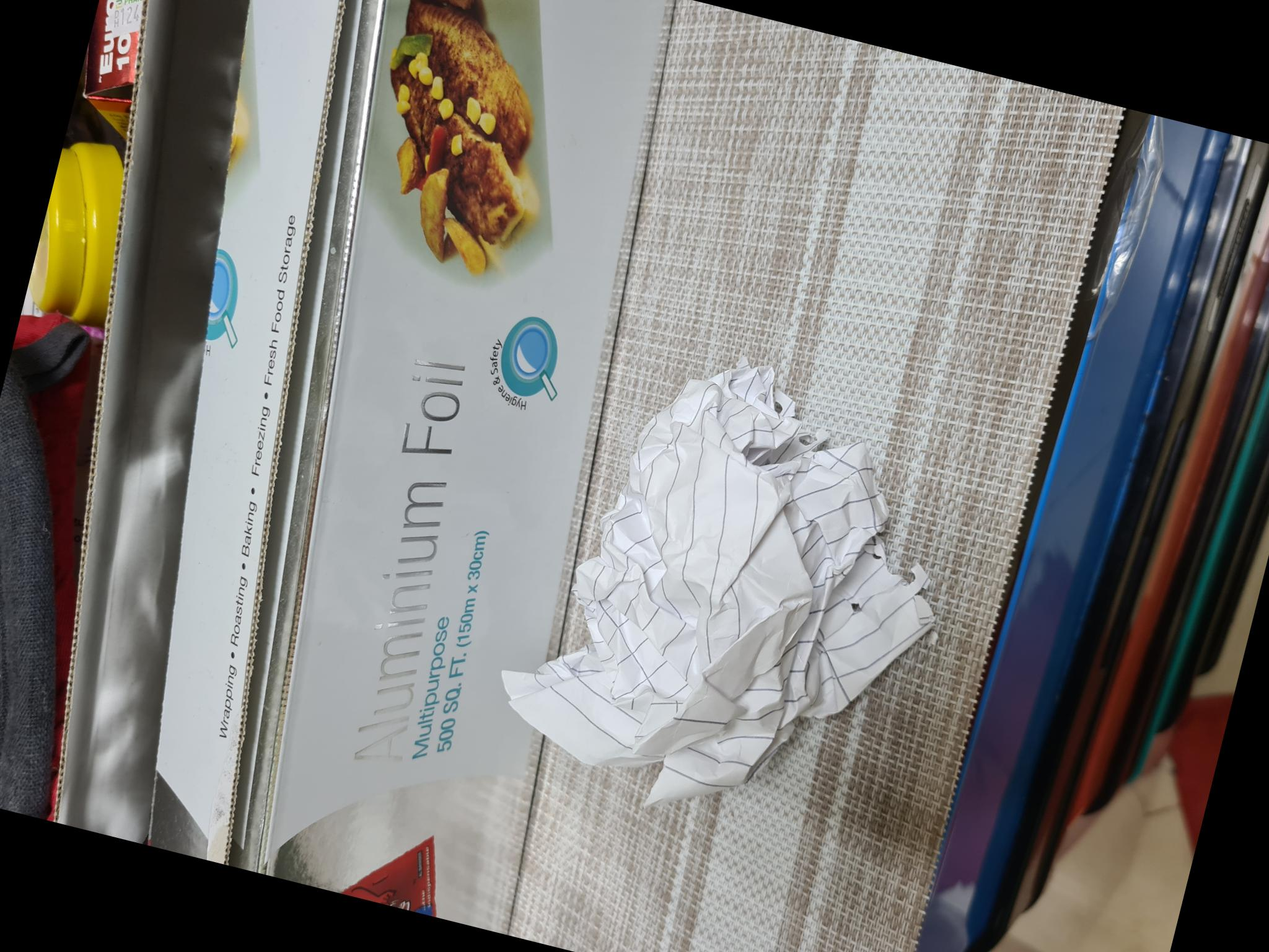Kertas: (107, 464, 572, 888)
